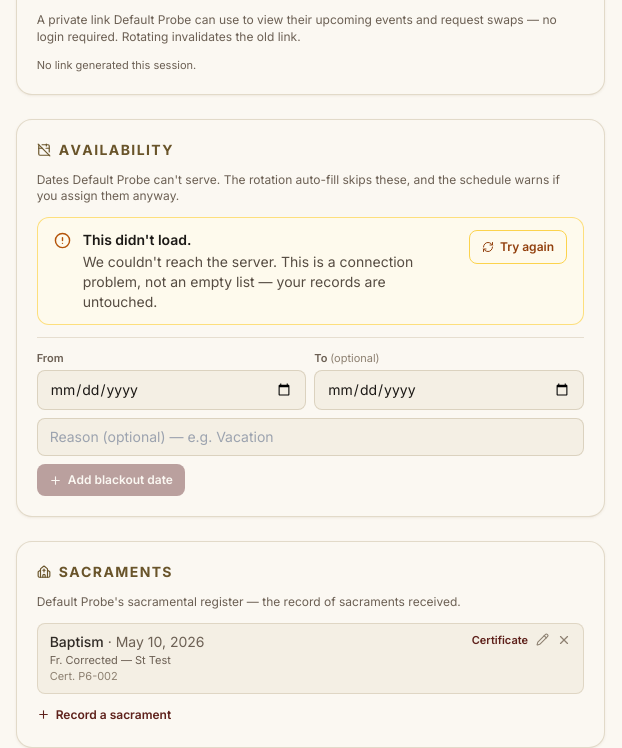
removing a register entry › the server's refusal is shown, and the entry stays
(page scrolled)
Expected: the text "Cert. P6-002" is shown, left=50, top=669, right=118, bottom=683
Click the button named "remove baptism record" at point(564, 640), box left=553, top=629, right=575, bottom=651
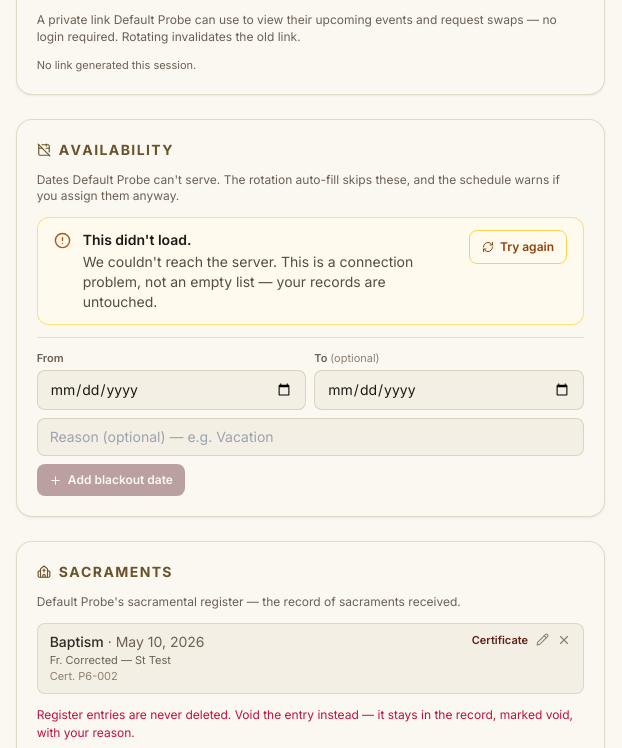
Expected: the text "Cert. P6-002" is shown, left=50, top=669, right=118, bottom=683
Expected: the text "never deleted. Void the entry instead" is shown, left=37, top=707, right=573, bottom=740
